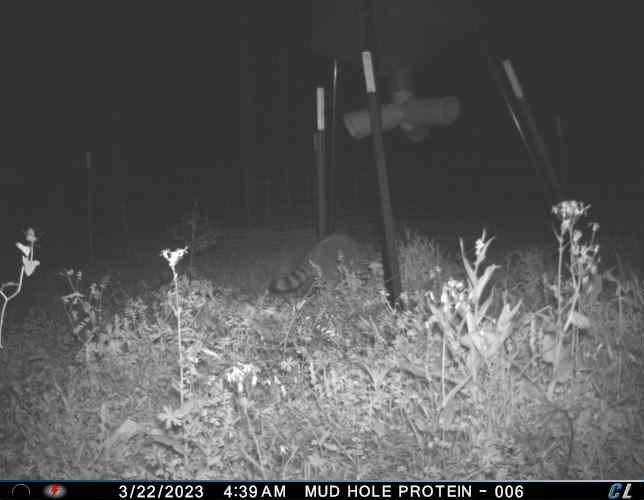Raccoon: (268, 233, 376, 297)
